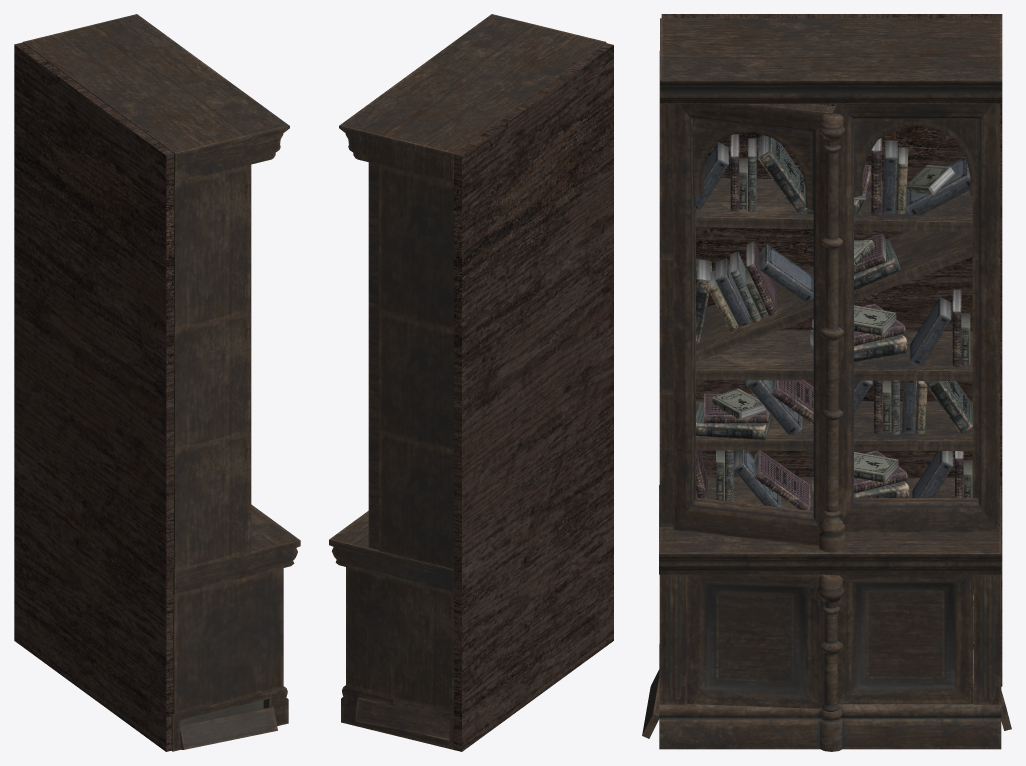
The model's file is SM_BookShelft.fbx.
3 renders of one model, left to right at view 1: azimuth 30°, elevation 25°; view 2: azimuth 150°, elevation 25°; view 3: azimuth 270°, elevation 25°, orthographic. The views are drawn at different scales.
Visible parts, largest first — view 1: SM_Bookshelf_01_LOD0; view 2: SM_Bookshelf_01_LOD0; view 3: SM_Bookshelf_01_LOD0.
Part boxes in pixels (box(x1,y1,x2,y2)): SM_Bookshelf_01_LOD0: box(14, 14, 300, 751); SM_Bookshelf_01_LOD0: box(329, 14, 613, 751); SM_Bookshelf_01_LOD0: box(642, 14, 1011, 751).
Bounding box in the file's own units: 70.45 × 296 × 148.
